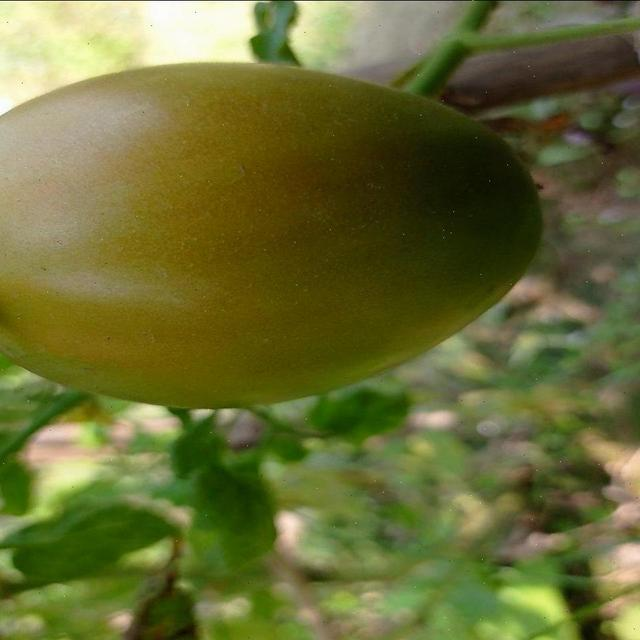Healthy Fruit: (0, 30, 369, 278)
